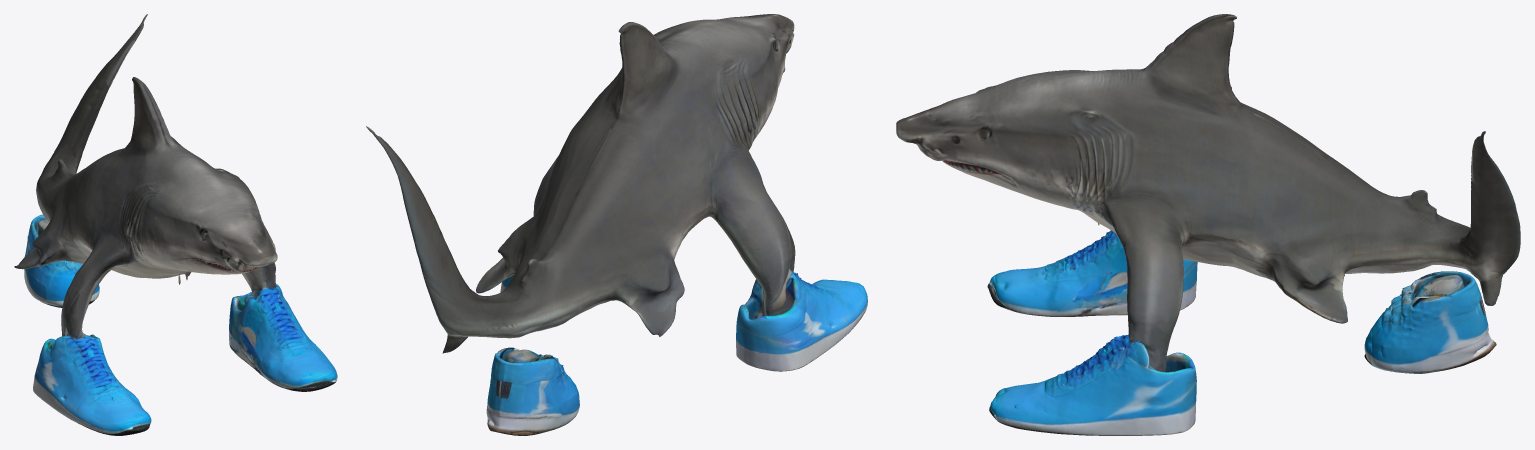
Rendered from tralalelo_tralala.glb.
3 views of the same model, side by side, from view 1: azimuth 30°, elevation 25°; view 2: azimuth 150°, elevation 25°; view 3: azimuth 270°, elevation 25° (orthographic). The views are drawn at different scales.
Parts seen in each view (by area): view 1: Object_4, Object_5; view 2: Object_4, Object_5; view 3: Object_4, Object_5.
Boxes of the visible parts, x1=… form: Object_4: x1=17, y1=18, x2=337, y2=435; Object_5: x1=14, y1=14, x2=336, y2=435; Object_4: x1=371, y1=14, x2=867, y2=435; Object_5: x1=366, y1=14, x2=867, y2=435; Object_4: x1=896, y1=14, x2=1520, y2=435; Object_5: x1=896, y1=14, x2=1520, y2=435.
Bounding box in the file's own units: 1.18 × 1.2 × 1.97.
Materials: 1 (1 with a texture image).
